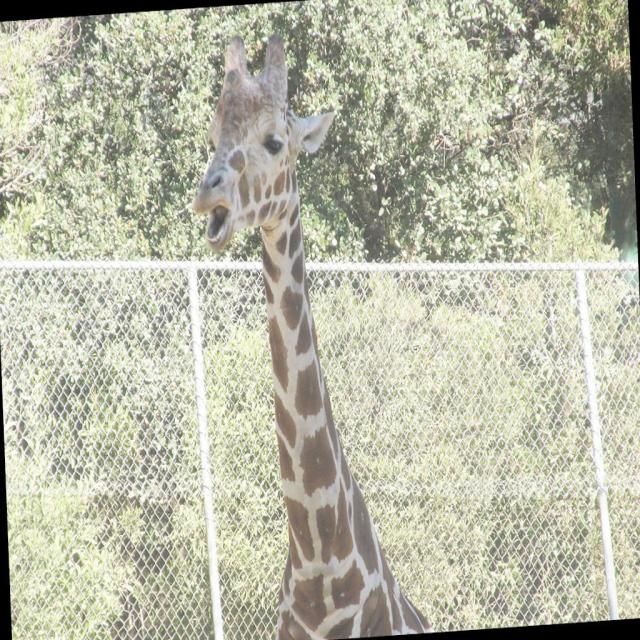Giraffe: (191, 13, 447, 635)
